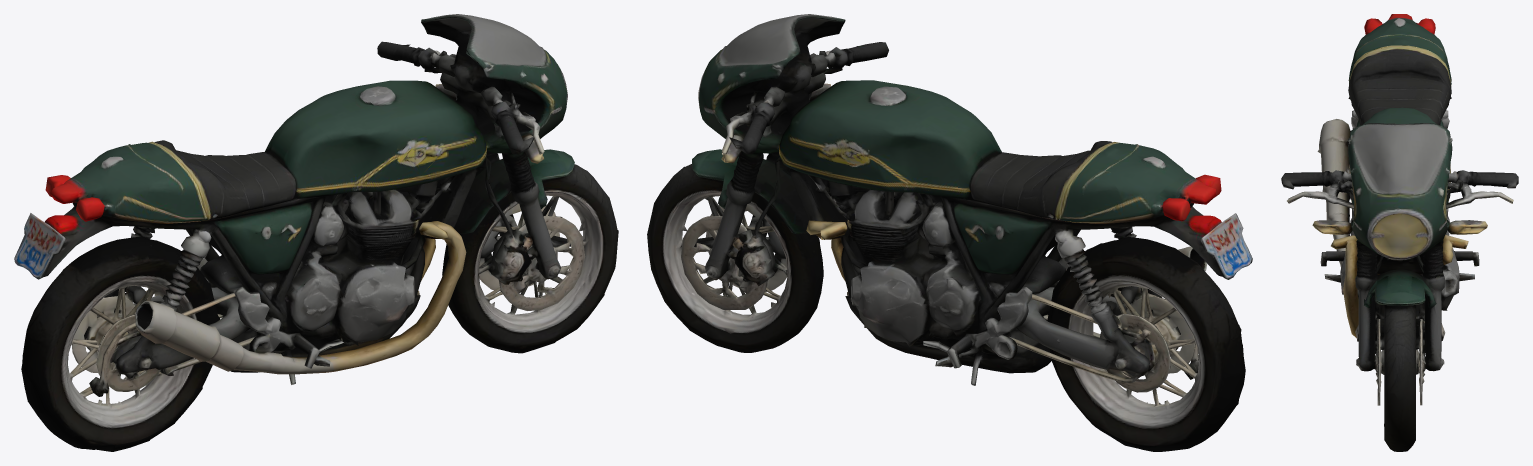
Rendered from Neon_Saints_bike.glb.
3 renders of one model, left to right at view 1: azimuth 30°, elevation 25°; view 2: azimuth 150°, elevation 25°; view 3: azimuth 270°, elevation 25°, orthographic. The views are drawn at different scales.
Parts seen in each view (by area): view 1: tripo_node_255b5f12-0133-495b-b236-1480f6ded398; view 2: tripo_node_255b5f12-0133-495b-b236-1480f6ded398; view 3: tripo_node_255b5f12-0133-495b-b236-1480f6ded398.
Boxes of the visible parts, x1,y1,x2,y2 form: tripo_node_255b5f12-0133-495b-b236-1480f6ded398: [14, 14, 618, 451]; tripo_node_255b5f12-0133-495b-b236-1480f6ded398: [647, 14, 1252, 451]; tripo_node_255b5f12-0133-495b-b236-1480f6ded398: [1281, 14, 1518, 451].
Size of the model in its own units: 1 by 0.5567 by 0.4085.
1 material, 1 textured.
